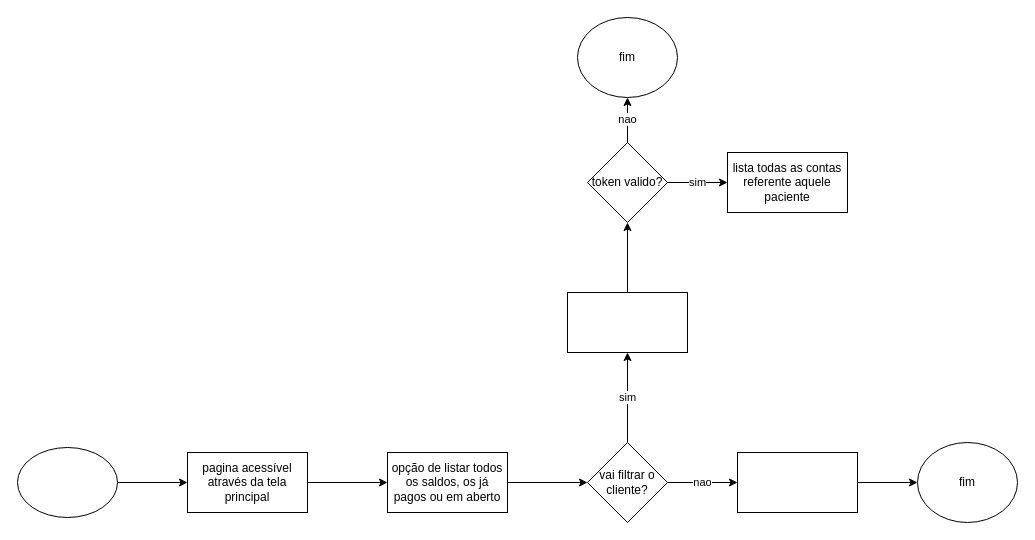
Some shapes in this 1035 by 540 pixel diagram are drawn without their labels. The shapes that lost their labels are listed below. From the top down, each one's centre as x and y in pixels, then its label:
the point at 627,322: faz uma verificação pelo token do psicólogo se ele tem aquele paciente
the point at 67,482: inicio
the point at 797,482: lista as contas conforme filtros feitos pelo psicologo
